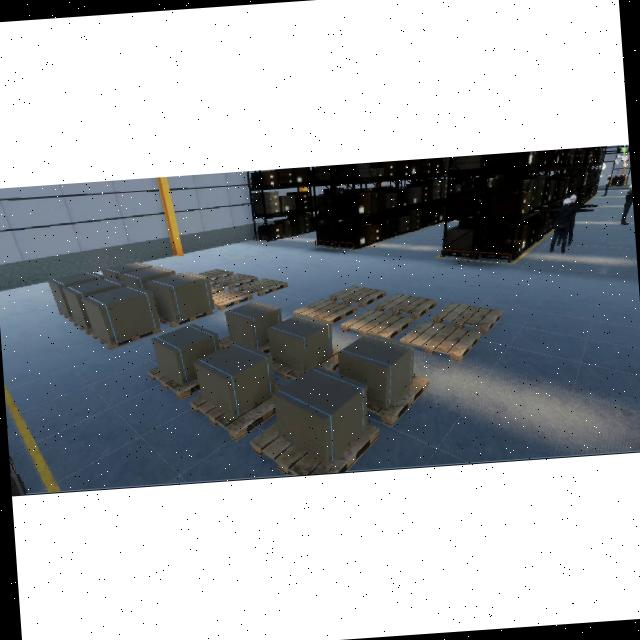wooden_pallet: (249, 418, 381, 476), (190, 381, 285, 442), (401, 319, 480, 360), (367, 375, 429, 425), (341, 307, 411, 338), (432, 302, 501, 333), (149, 366, 200, 400), (292, 297, 356, 324), (92, 328, 162, 352), (375, 292, 437, 318), (328, 284, 386, 308), (158, 309, 211, 329), (238, 276, 288, 296), (213, 288, 253, 310), (211, 272, 257, 289), (195, 268, 232, 281), (210, 284, 223, 292)
